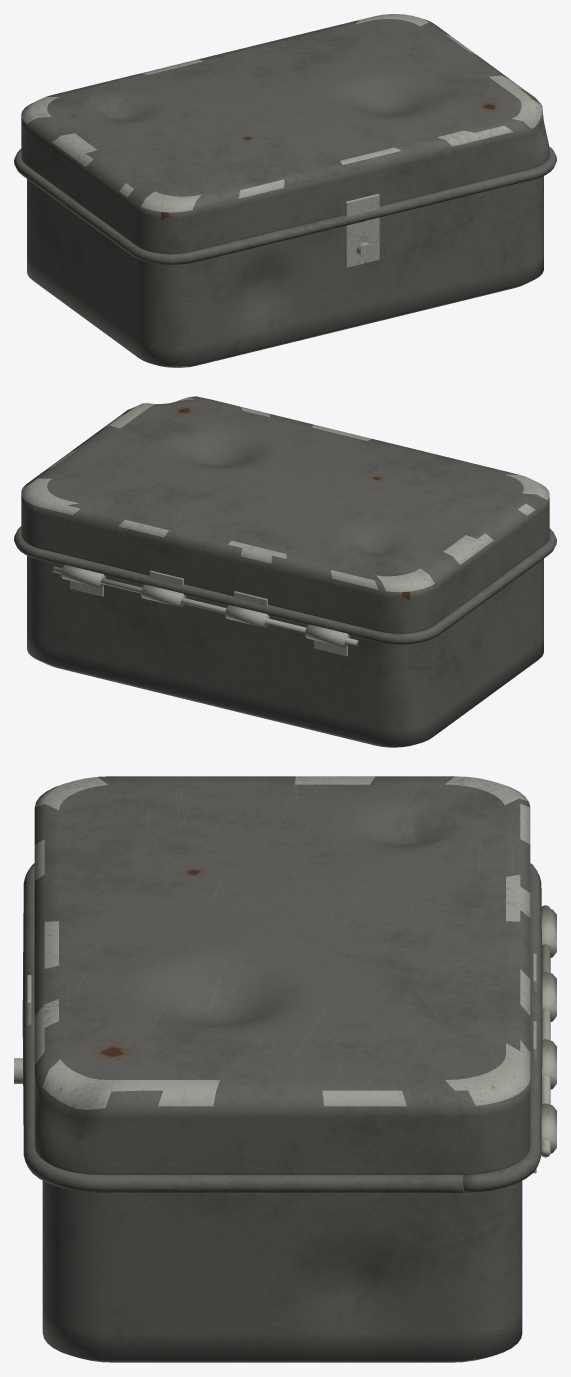
Rendered from lunch-tin.glb.
3 renders of one model, top to bottom at view 1: azimuth 30°, elevation 25°; view 2: azimuth 150°, elevation 25°; view 3: azimuth 270°, elevation 25°, orthographic. The views are drawn at different scales.
Visible parts, largest first — view 1: lunch-tin-body; view 2: lunch-tin-body; view 3: lunch-tin-body.
Part boxes in pixels (x1=…): lunch-tin-body: x1=14, y1=14, x2=556, y2=367; lunch-tin-body: x1=14, y1=396, x2=556, y2=747; lunch-tin-body: x1=14, y1=776, x2=556, y2=1362.
Bounding box in the file's own units: 0.2 × 0.079 × 0.1359.
2 materials, 2 textured.
